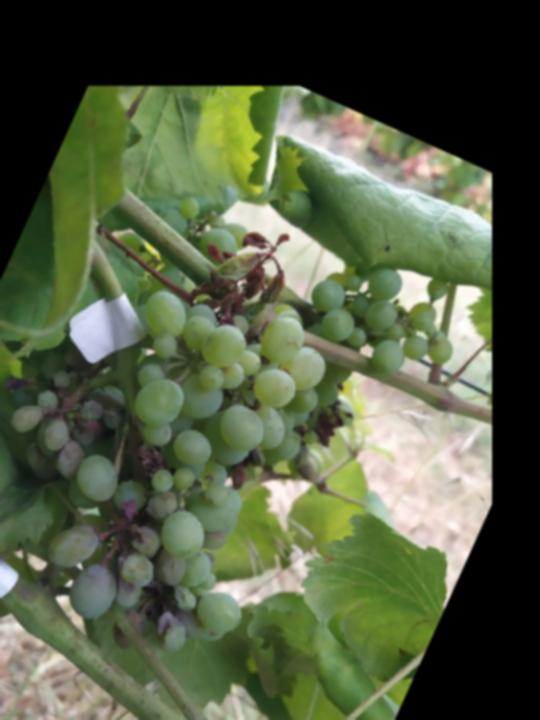grape: (0, 183, 390, 684)
